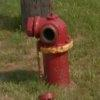Hydrant: (17, 8, 81, 87)
